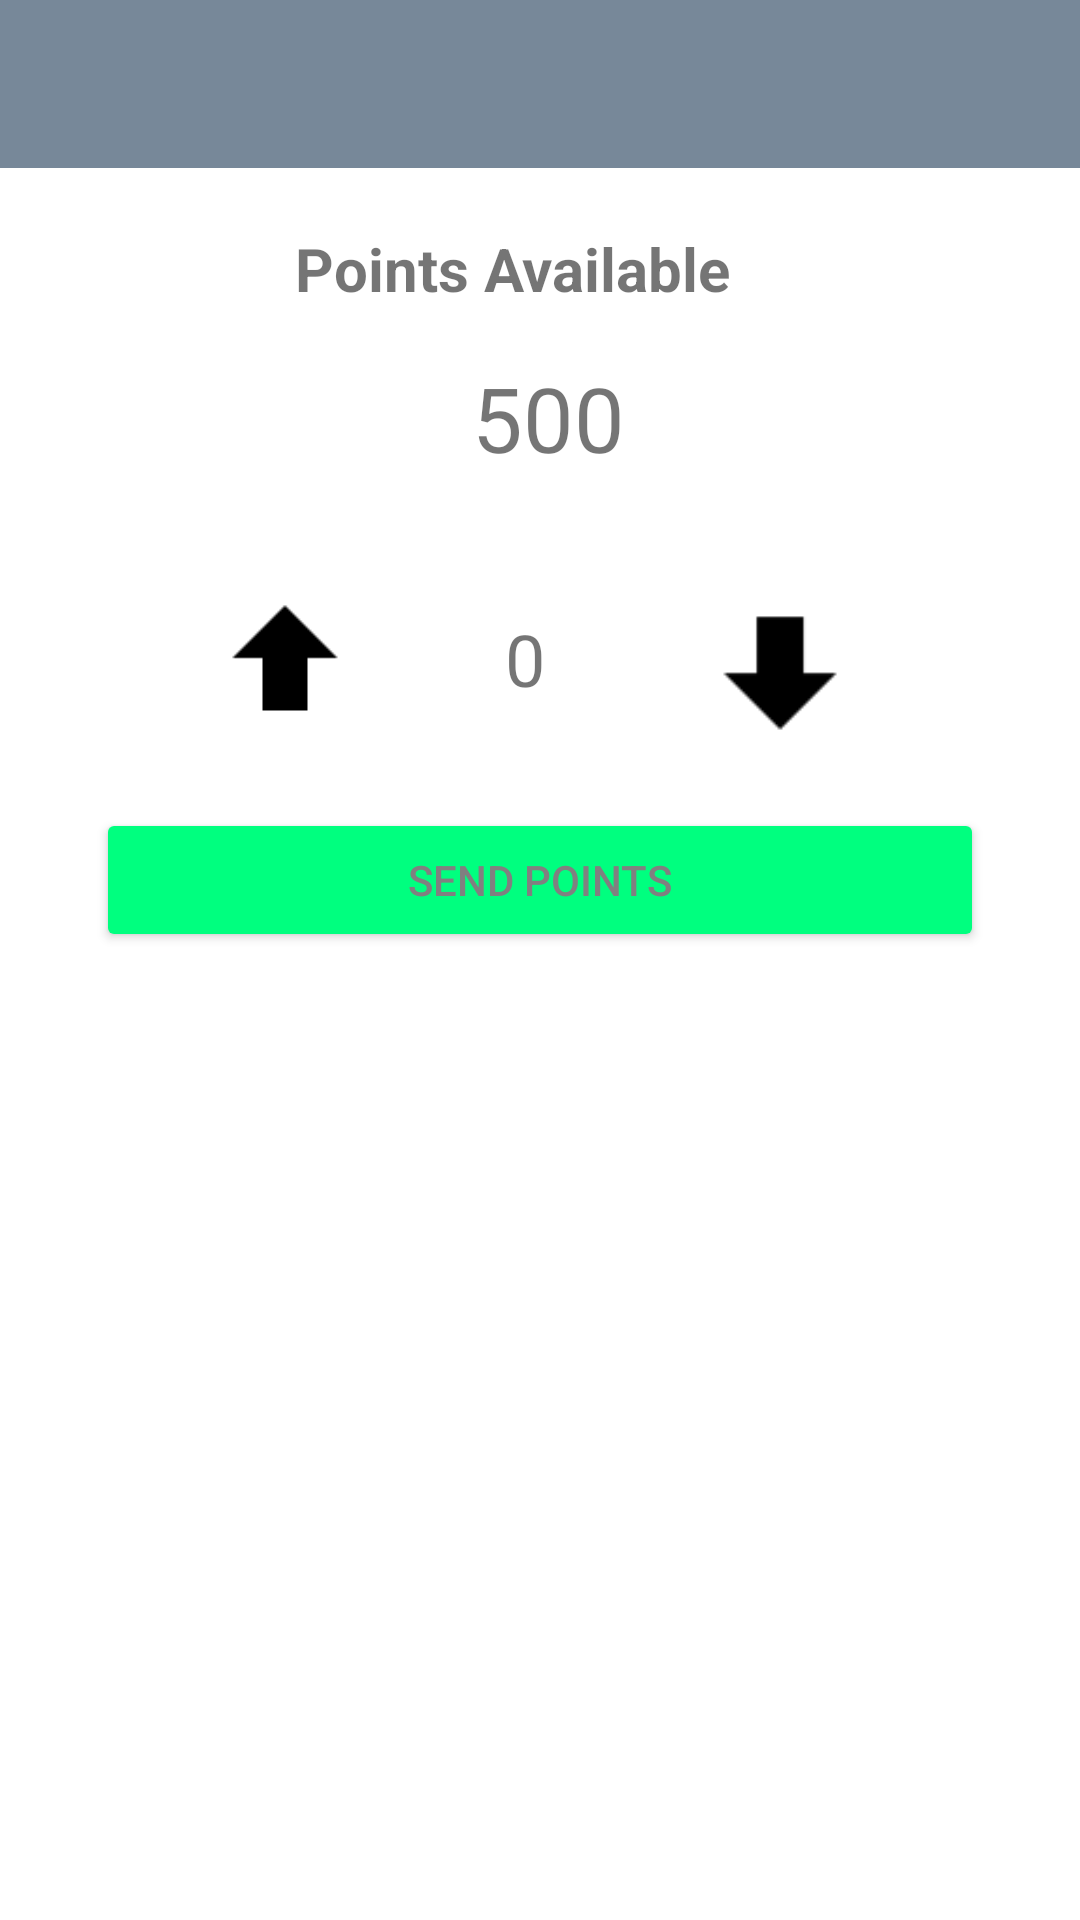

Locate icon controls on the screen. Image size 1080px×1920px, boxes as (x1=x1, y1=y1, x2=x2, y2=y2).
downvote: (x1=723, y1=616, x2=837, y2=730)
upvote: (x1=232, y1=605, x2=338, y2=711)
